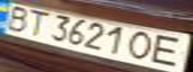1: (103, 25, 130, 56)
2: (81, 20, 109, 52)
3: (45, 12, 72, 44)
6: (63, 17, 87, 47)
B: (0, 2, 33, 33)
E: (145, 33, 190, 67)
O: (124, 29, 160, 62)
T: (18, 8, 54, 37)
